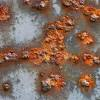rust: (40, 21, 68, 93), (2, 45, 78, 66), (60, 1, 100, 20), (23, 1, 52, 13), (79, 74, 96, 92), (82, 52, 100, 67), (1, 6, 12, 26), (78, 32, 95, 44), (2, 82, 13, 93)
